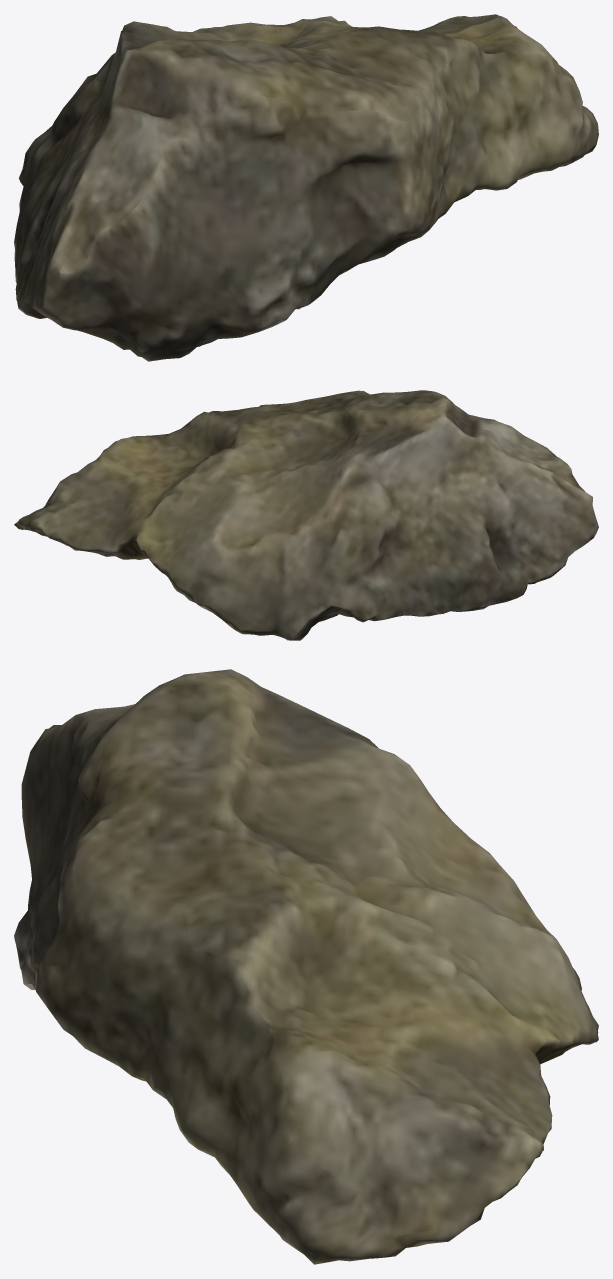
The model's file is rock_moss_set_02_e.gltf.
The picture shows the model from 3 angles, top to bottom: view 1: azimuth 30°, elevation 25°; view 2: azimuth 150°, elevation 25°; view 3: azimuth 270°, elevation 25°; orthographic projection. The views are drawn at different scales.
Visible parts, largest first — view 1: rock_moss_set_02_rock09; view 2: rock_moss_set_02_rock09; view 3: rock_moss_set_02_rock09.
Part boxes in pixels (x1,y1,x2,y2): rock_moss_set_02_rock09: (14,14,598,361); rock_moss_set_02_rock09: (14,390,598,640); rock_moss_set_02_rock09: (14,669,598,1264).
Bounding box in the file's own units: 1.63 × 0.6099 × 1.01.
Materials: 1 (1 with a texture image).
